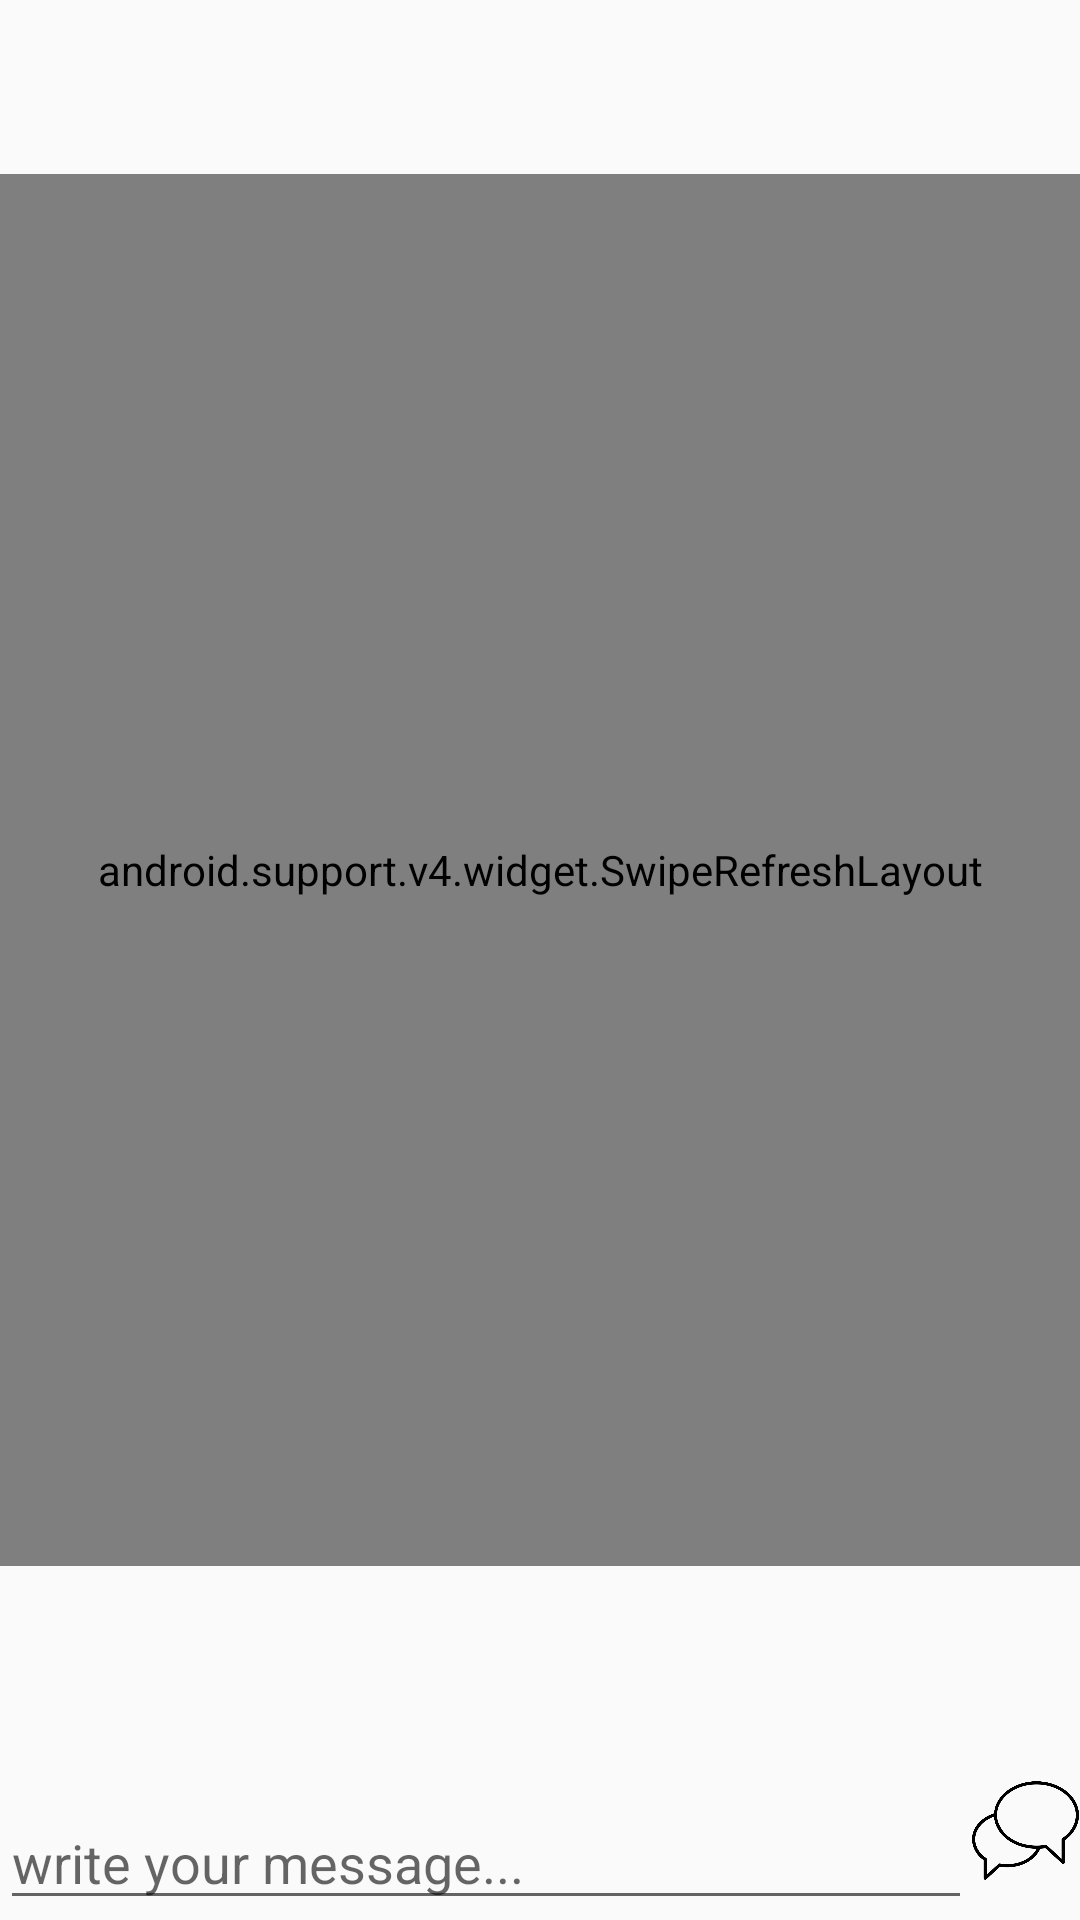

Where to tap for icons on this 1080px×1920px app screen, as (x,y):
chat: (1025,1830)
